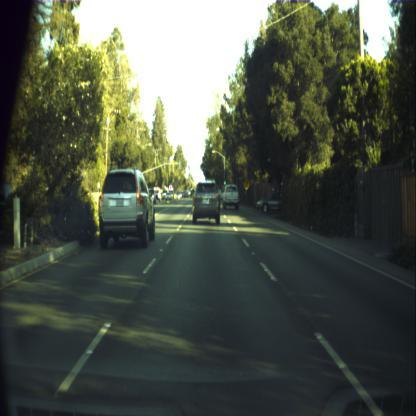Green: (223, 178, 226, 185)
